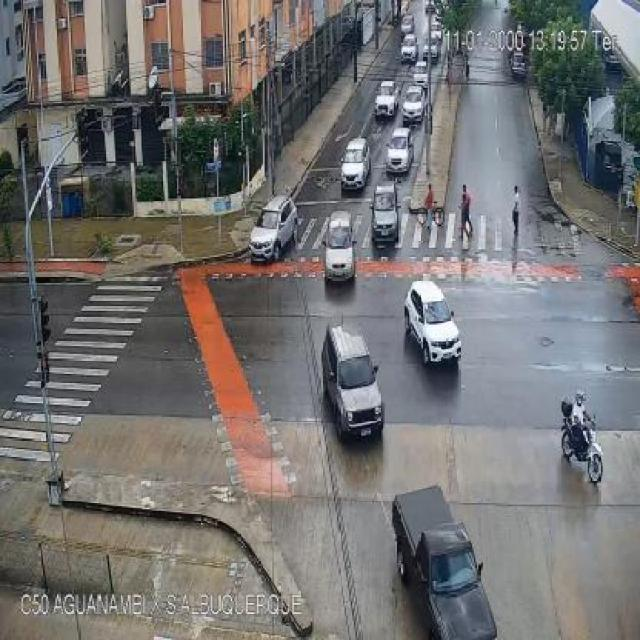Car: (319, 322, 386, 442), (403, 280, 463, 366), (250, 194, 300, 263), (321, 212, 358, 281), (370, 182, 400, 246), (340, 137, 372, 190), (384, 128, 415, 174), (596, 138, 624, 184), (401, 86, 426, 124), (374, 80, 398, 118), (400, 34, 418, 62), (422, 37, 440, 62), (510, 52, 527, 78), (412, 67, 429, 91), (400, 13, 414, 34)
Cycle: (558, 397, 604, 484), (416, 199, 447, 226)
Truck: (391, 484, 495, 640)
